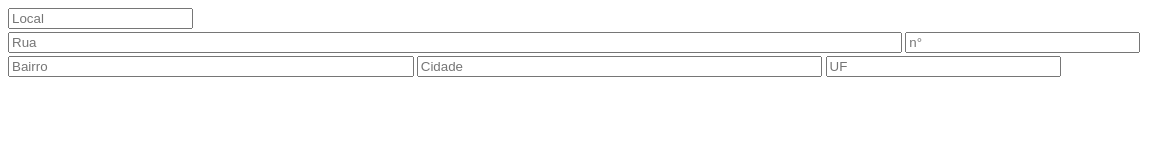
Test: AddressForm › should select suggestion and update address data
The width and height of the screenshot is (1152, 160).
In the field with placeholder "Local": (100, 18) left=8, top=8, right=193, bottom=29, type "Add"
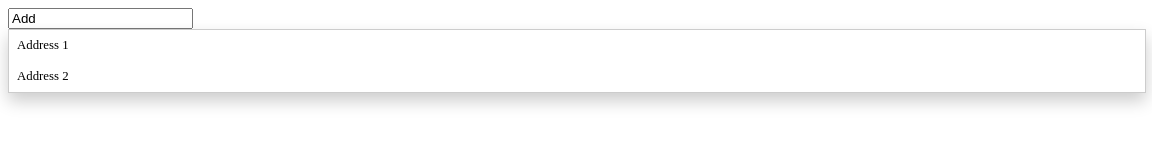
Click the text "Address 1": (43, 45) left=17, top=38, right=68, bottom=52
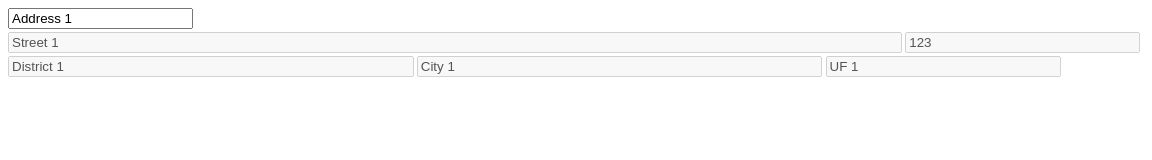
Expected: the 1st field with placeholder "Local" holds "Address 1", left=8, top=8, right=193, bottom=29
Expected: the 2nd field with placeholder "Rua" holds "Street 1", left=8, top=32, right=902, bottom=53
Expected: the 3rd field with placeholder "n°" holds "123", left=905, top=32, right=1140, bottom=53
